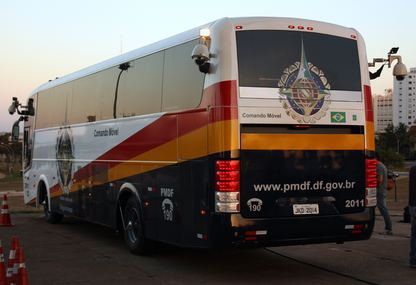bus: (8, 17, 406, 253)
